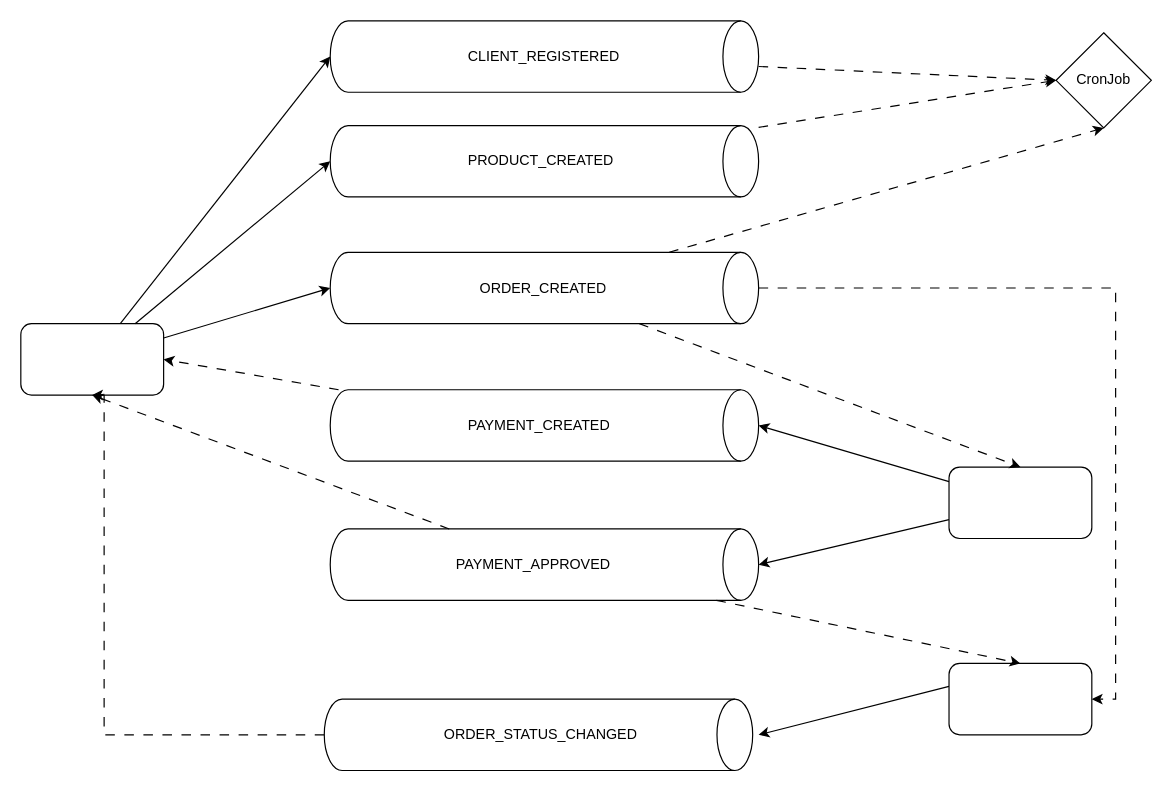
This 1172x791 diagram has some shape labels left out. The centre of each missing label's shape, as x and y in pixels:
"KDS/KITCHEN" goes at point 1020,698.
"ORDER" goes at point 92,358.
"PAYMENT" goes at point 1020,502.
